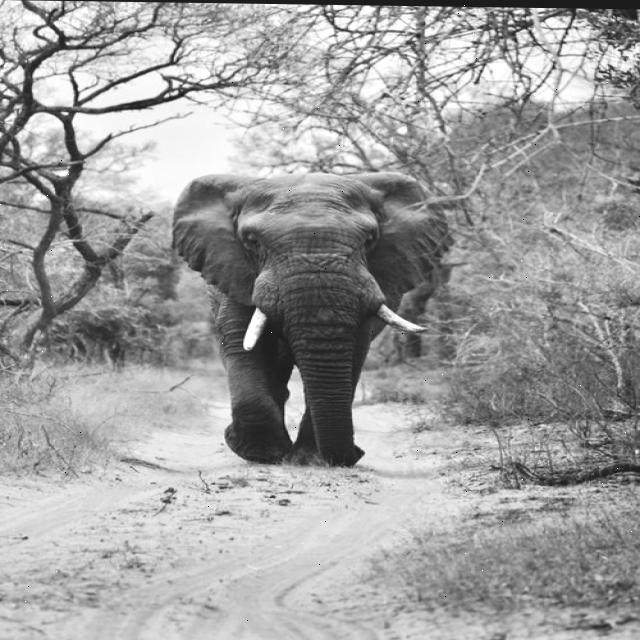Elephant: (169, 167, 453, 469)
